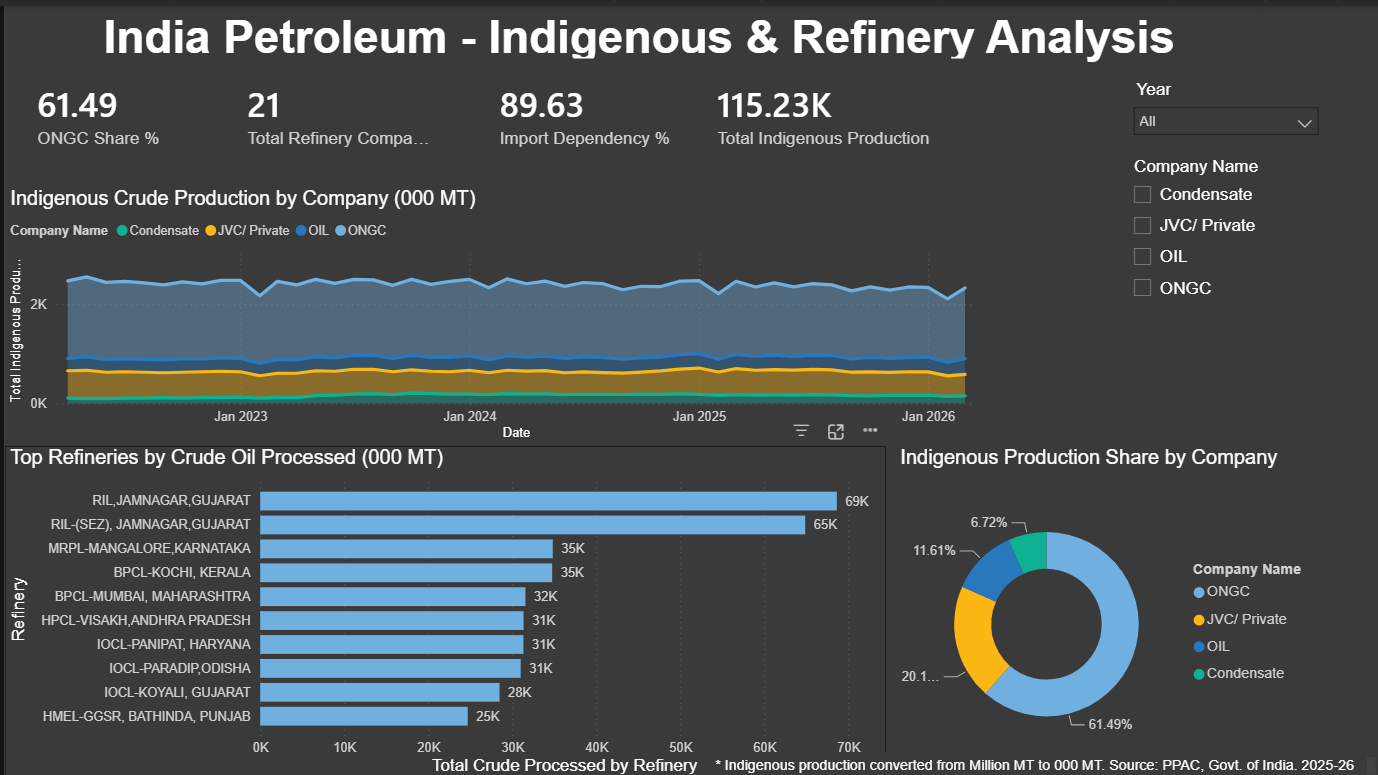

What the dashboard file says about the page in this screenshot:
{"tool":"powerbi","page":{"name":"Indigenous Production & Refinery Analysis","canvas":[1280,720],"ordinal":2},"visuals":[{"type":"textbox","box":[10,0,1158.9,60],"z":0},{"type":"cardVisual","fields":{"Data":["_Measures.ONGC Share %"]},"box":[0,48.9,195.6,101.1],"z":1000},{"type":"cardVisual","fields":{"Data":["_Measures.Total Refinery Companies"]},"box":[195.6,48.9,234.4,101.1],"z":2000},{"type":"cardVisual","fields":{"Data":["_Measures.Import Dependency %"]},"box":[430,48.9,225.6,101.1],"z":3000},{"type":"stackedAreaChart","title":"Indigenous Crude Production by Company (000 MT)","fields":{"Category":["DateTable.Date"],"Y":["_Measures.Total Indigenous Production"],"Series":["IndigenousProduction_Companies_FINAL.Company Name"]},"box":[0,168.9,923.3,240],"z":4000},{"type":"clusteredBarChart","title":"Top Refineries by Crude Oil Processed (000 MT)","fields":{"Category":["FactRefineryCompanyWise.Refinery"],"Y":["_Measures.Total Crude Processed by Refinery"]},"box":[0,408.9,820,311.1],"z":5000},{"type":"donutChart","title":"Indigenous Production Share by Company","fields":{"Category":["IndigenousProduction_Companies_FINAL.Company Name"],"Y":["_Measures.Total Indigenous Production"]},"box":[827.8,408.9,401.1,311.1],"z":6000},{"type":"slicer","fields":{"Values":["DateTable.Year"]},"box":[1040,64.4,192.2,72.2],"z":7000},{"type":"slicer","fields":{"Values":["IndigenousProduction_Companies_FINAL.Company Name"]},"box":[1036.7,134.4,200,198.9],"z":8000},{"type":"cardVisual","fields":{"Data":["_Measures.Total Indigenous Production"]},"box":[632.2,48.9,268.9,101.1],"z":9000},{"type":"textbox","box":[655.6,694.4,624.4,25.6],"z":10000}]}

Visuals, with their boxes in screenshot pixels (x1, y1, x2, y2), scaled from the page's 1280x720 canvas onto the 1378x775 screenshot:
textbox: rect(11, 0, 1258, 65)
cardVisual - _Measures.ONGC Share %: rect(0, 53, 211, 161)
cardVisual - _Measures.Total Refinery Companies: rect(211, 53, 463, 161)
cardVisual - _Measures.Import Dependency %: rect(463, 53, 706, 161)
"Indigenous Crude Production by Company (000 MT)" stackedAreaChart: rect(0, 182, 994, 440)
"Top Refineries by Crude Oil Processed (000 MT)" clusteredBarChart: rect(0, 440, 883, 774)
"Indigenous Production Share by Company" donutChart: rect(891, 440, 1323, 774)
slicer - DateTable.Year: rect(1120, 69, 1327, 147)
slicer - IndigenousProduction_Companies_FINAL.Company Name: rect(1116, 145, 1331, 359)
cardVisual - _Measures.Total Indigenous Production: rect(681, 53, 970, 161)
textbox: rect(706, 747, 1377, 774)
